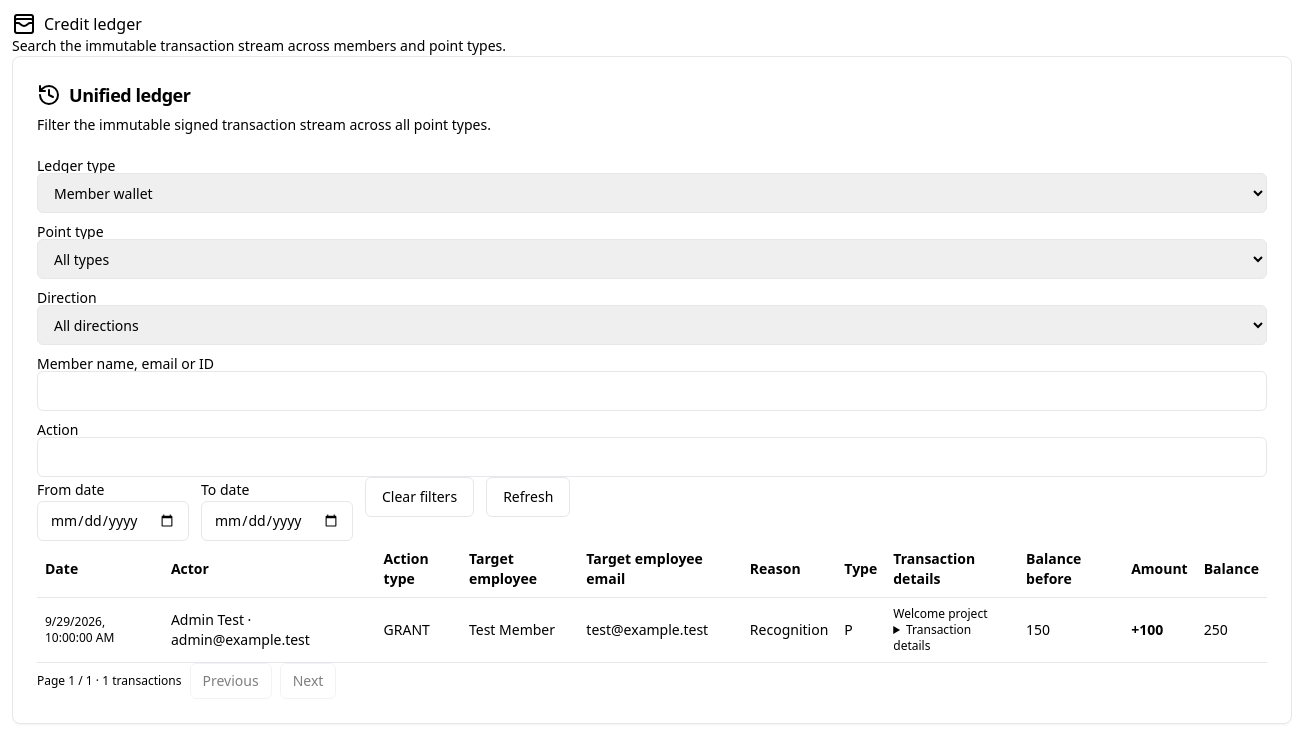
Scenario: ledger details › shows readable actor, source and reconciled before/after balances
Expected: the text "Welcome project" is shown, [893,605,988,622]
Expected: the text "Admin Test · admin@example.test" is shown, [163,598,376,662]
Type "2026-09-30" into the date field labelled "From date" at (113, 521), box [37,501,189,541]
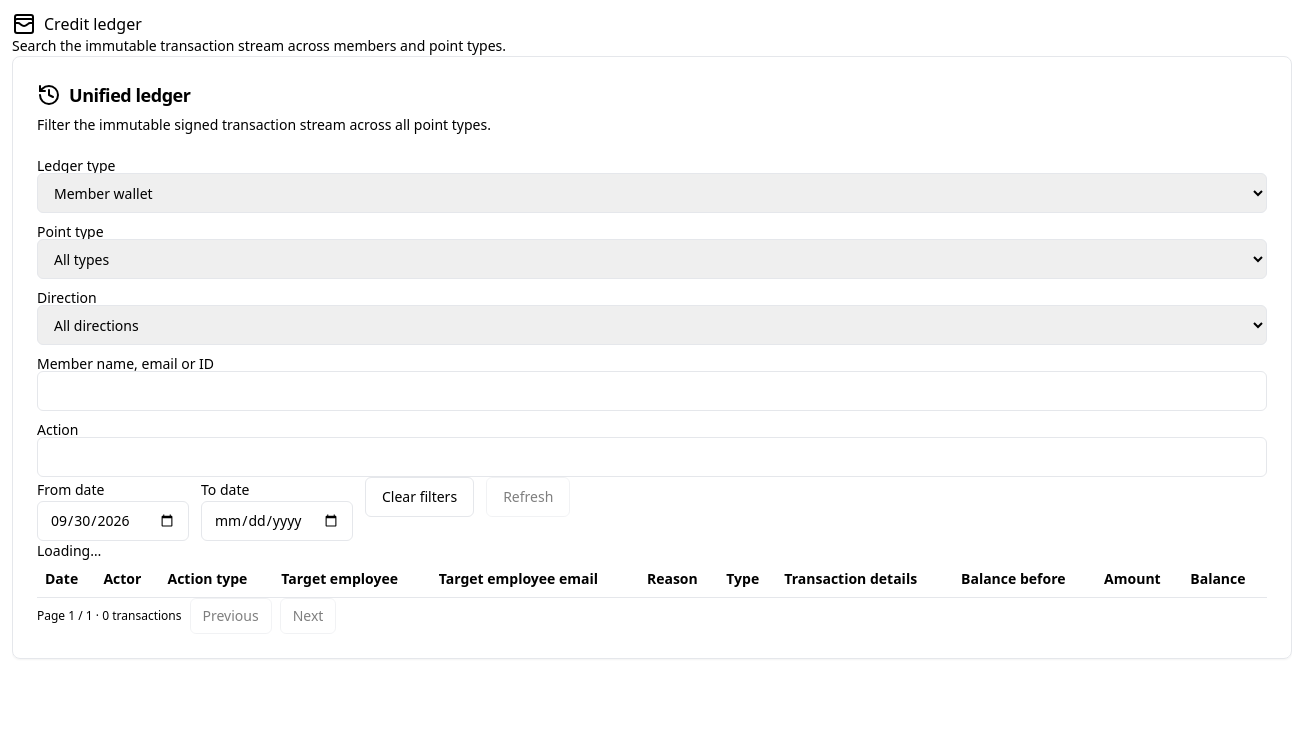
Type "2026-09-01" into the date field labelled "To date" at (277, 521), box [201,501,353,541]
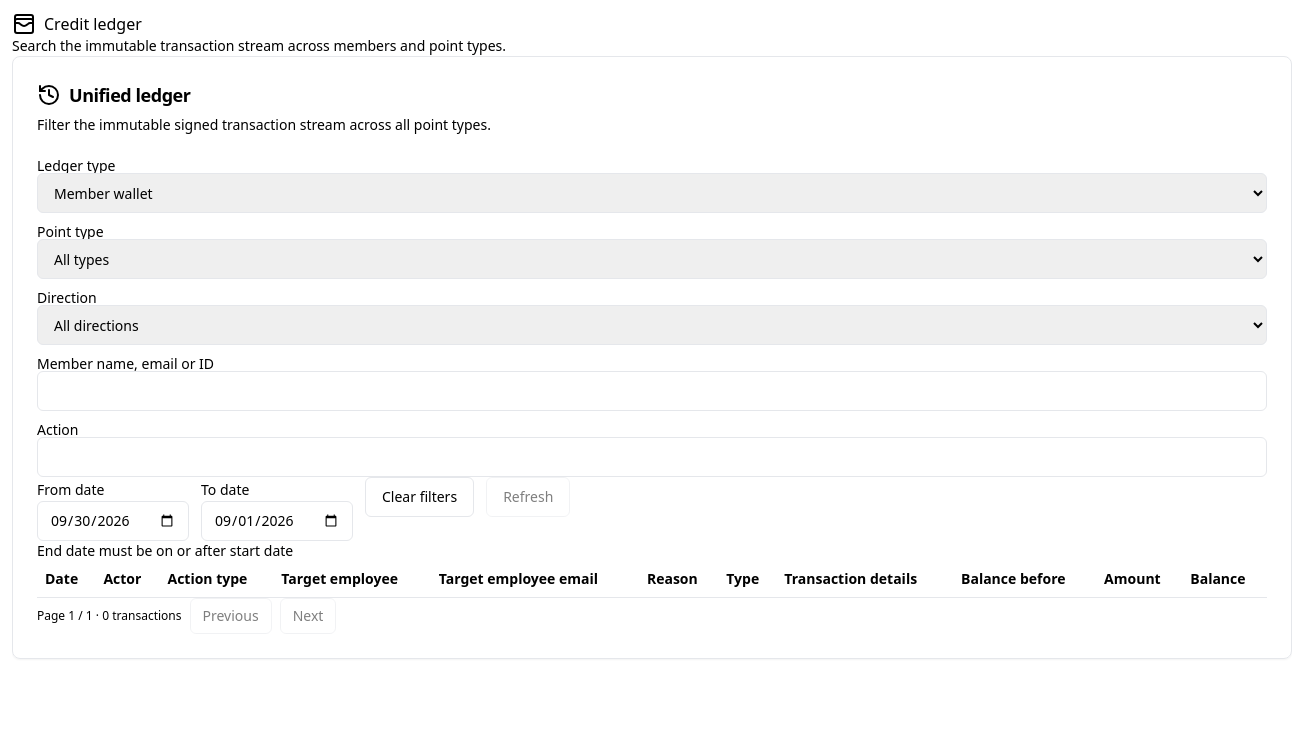
Expected: the text "Welcome project" is not shown
Expected: the message reads "End date must be on or after start date", [37,541,293,560]
